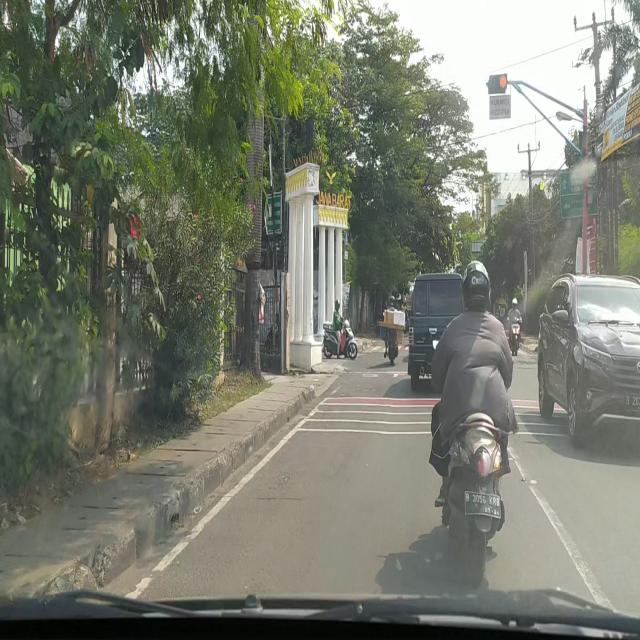Sewer Cover: (248, 494, 308, 504)
